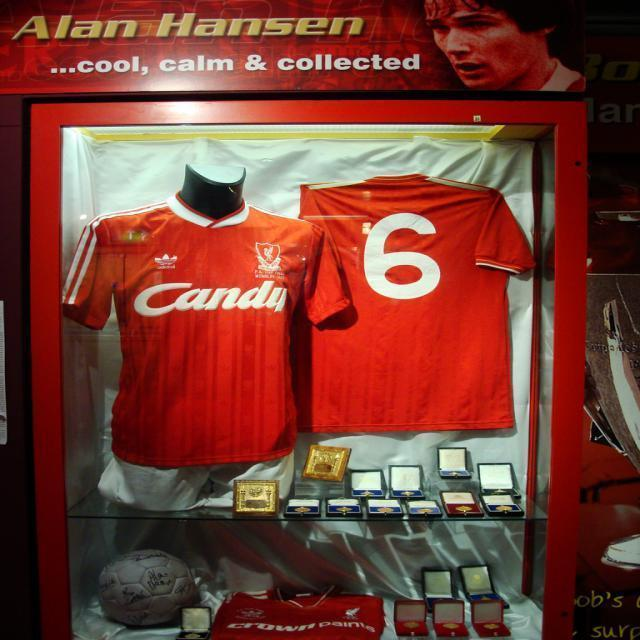ball: (96, 551, 198, 630)
